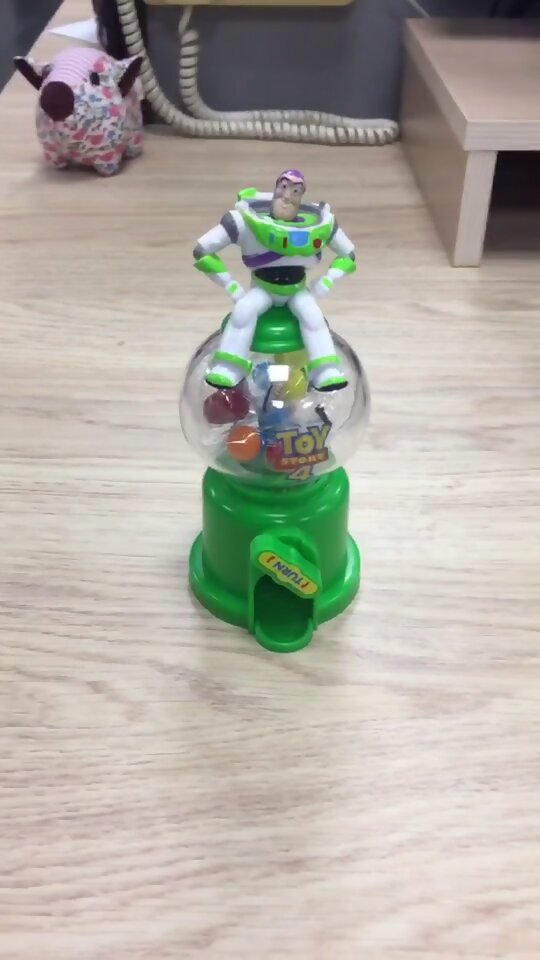buzz: (175, 164, 374, 656)
